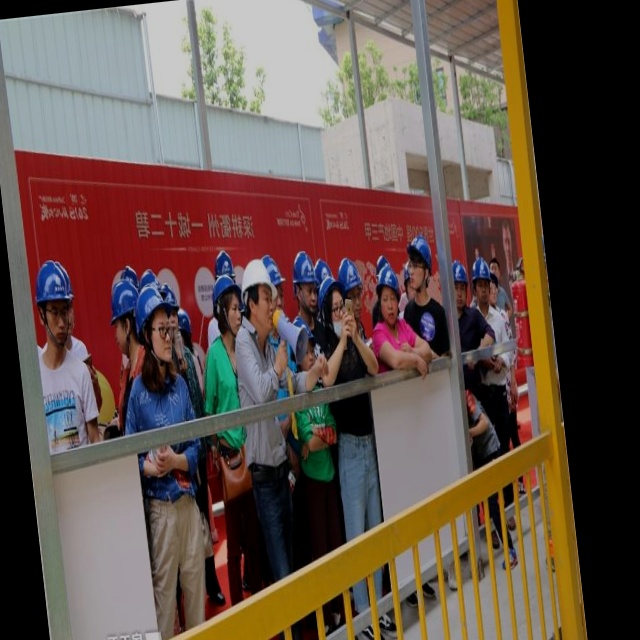Con_Casco: (32, 261, 72, 347), (136, 289, 175, 364), (376, 266, 405, 325)
